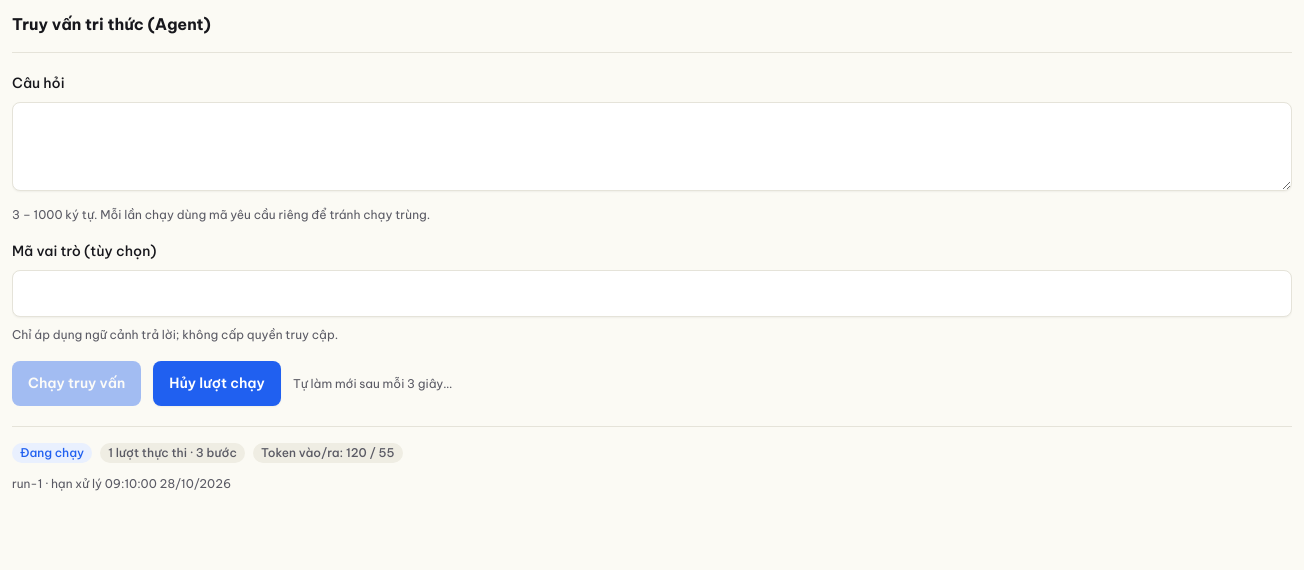
Scenario: KnowledgeRunMonitor › offers cancel for an in-flight run and applies the returned state
The image size is (1304, 570).
Click the button "Hủy lượt chạy".
click(217, 384)  # box left=153, top=361, right=281, bottom=406
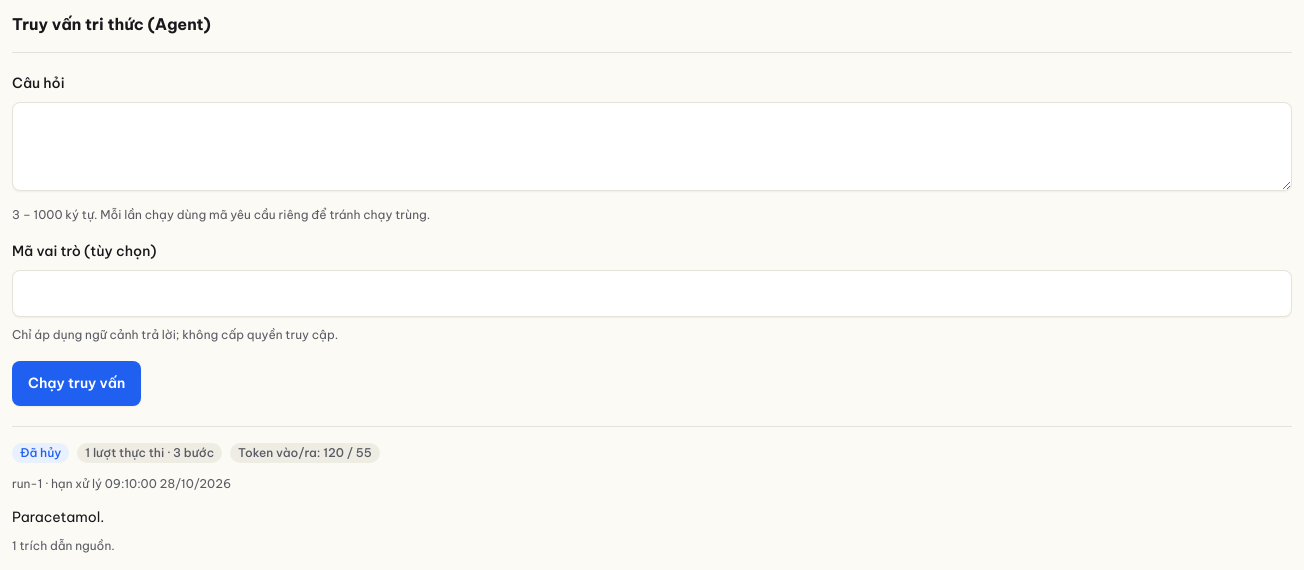
Expected: the text "Đã hủy" is shown, left=12, top=443, right=69, bottom=463
